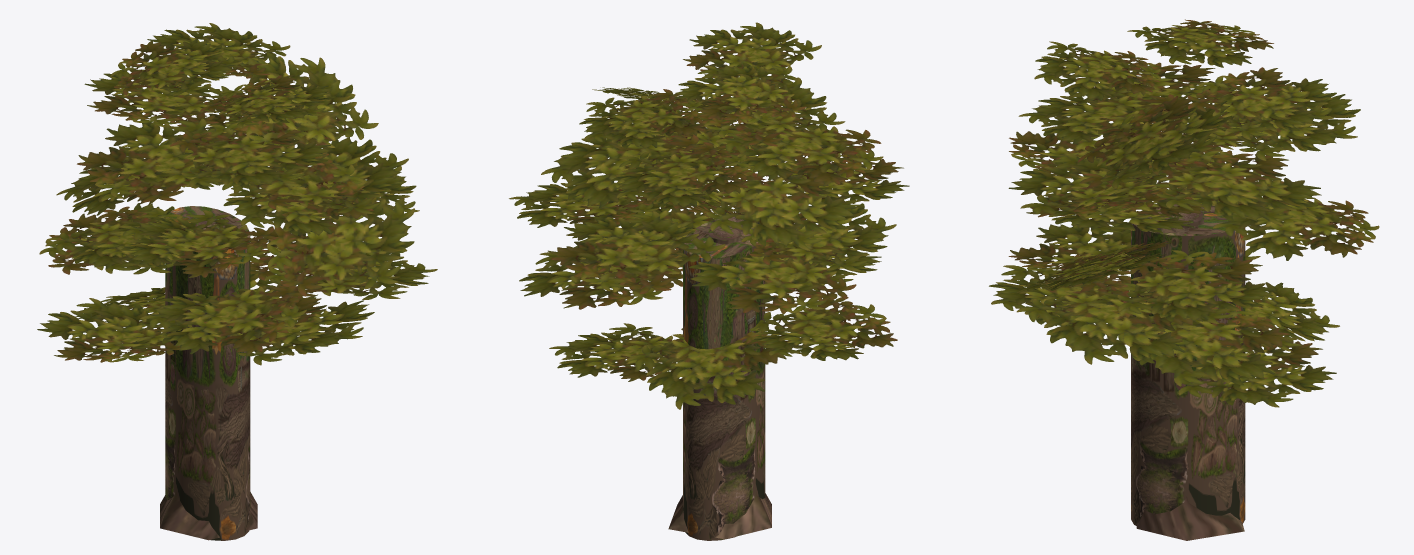
File: Tree_E_1.fbx
3 views of the same model, side by side, from view 1: azimuth 30°, elevation 25°; view 2: azimuth 150°, elevation 25°; view 3: azimuth 270°, elevation 25° (orthographic). The views are drawn at different scales.
Visible parts, largest first — view 1: Tree_E_1__29_, Cylinder, Tree_D_Trunk; view 2: Tree_E_1__29_, Cylinder, Tree_D_Trunk; view 3: Tree_E_1__29_, Cylinder, Tree_D_Trunk.
Part boxes in pixels (x1,y1,x2,y2): Tree_E_1__29_: (37,23,437,365); Cylinder: (165,206,250,540); Tree_D_Trunk: (160,217,257,540); Tree_E_1__29_: (509,22,909,409); Cylinder: (683,217,765,540); Tree_D_Trunk: (668,226,771,539); Tree_E_1__29_: (989,19,1379,407); Cylinder: (1131,204,1245,525); Tree_D_Trunk: (1136,211,1244,540).
Bounding box in the file's own units: 1 × 1.03 × 0.8641.
